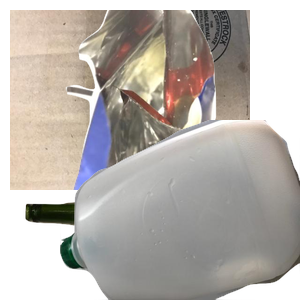cardboard: (10, 10, 250, 190)
glass: (23, 186, 249, 300)
plastic: (60, 120, 300, 300)
trash: (63, 10, 300, 190)
